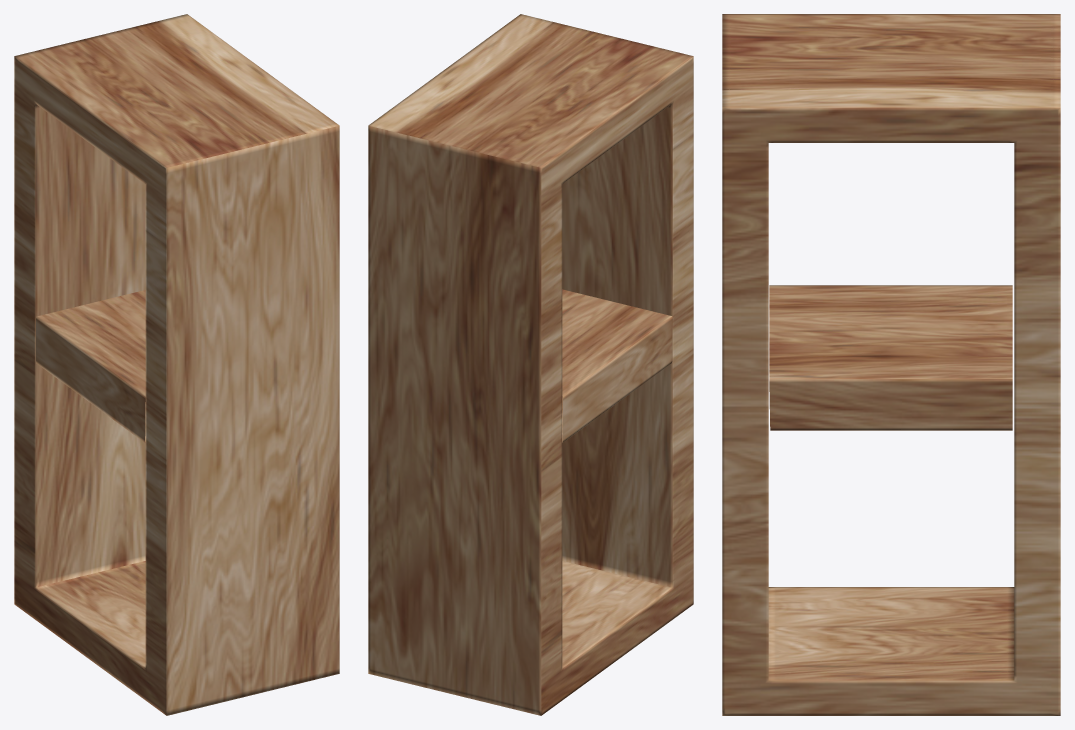
Rendered from shelve_04.obj.
The picture shows the model from 3 angles, left to right: view 1: azimuth 30°, elevation 25°; view 2: azimuth 150°, elevation 25°; view 3: azimuth 270°, elevation 25°; orthographic projection. The views are drawn at different scales.
Visible parts, largest first — view 1: shelve_04; view 2: shelve_04; view 3: shelve_04.
Part boxes in pixels (<box>): shelve_04: <box>14,14,339,715</box>; shelve_04: <box>368,14,693,715</box>; shelve_04: <box>722,14,1060,715</box>.
Bounding box in the file's own units: 1.48 × 4.47 × 2.26.
